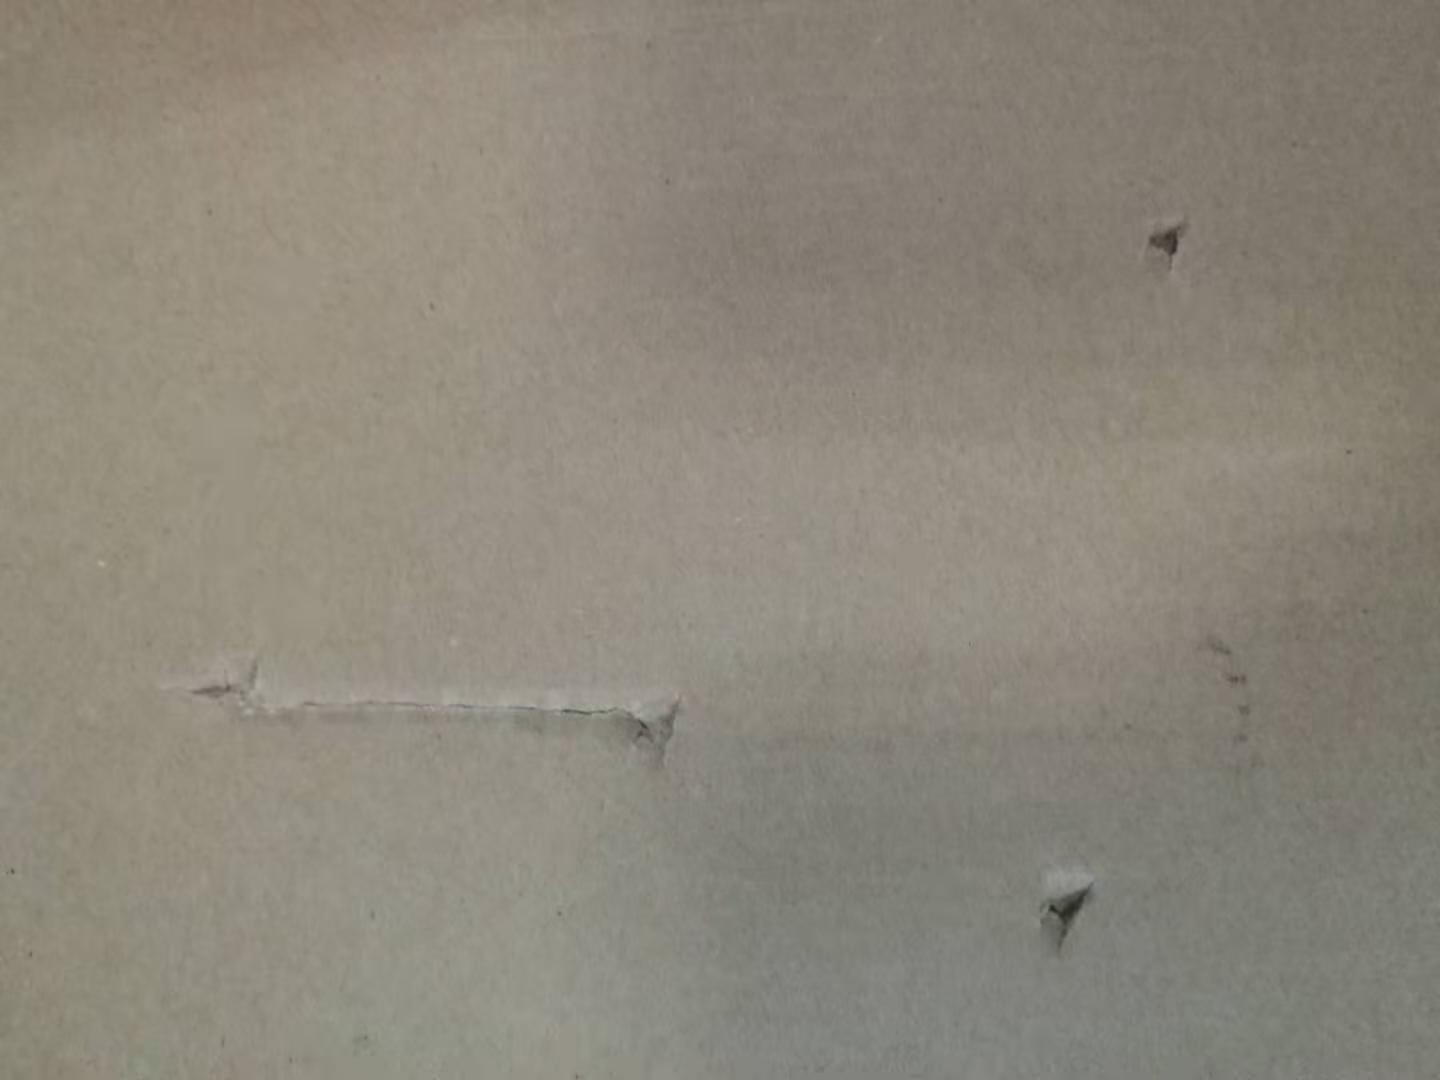defect: (124, 617, 743, 819), (1011, 832, 1117, 981), (1106, 177, 1211, 307)
